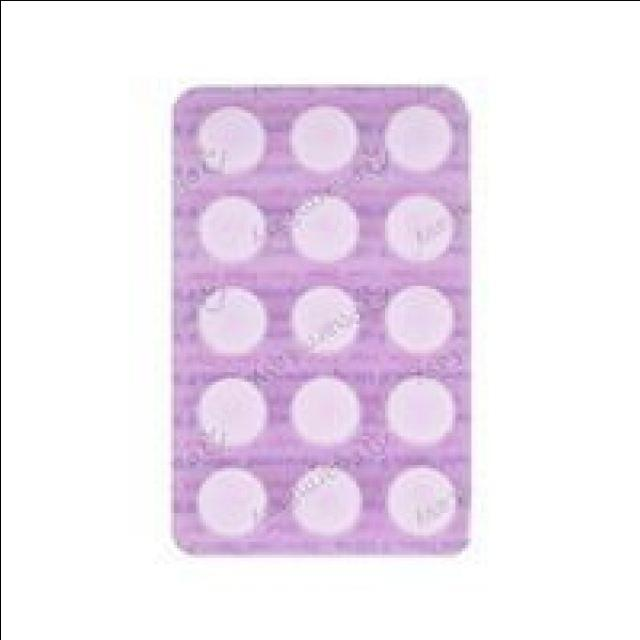authentic: (162, 77, 476, 567)
